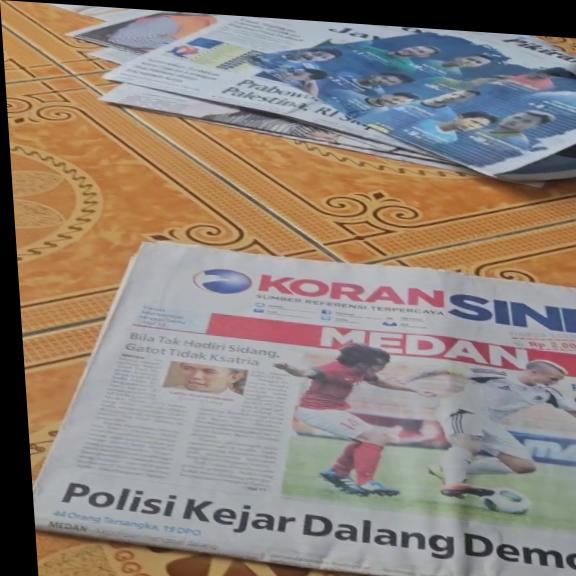Kertas: (141, 247, 576, 561), (82, 6, 576, 187)
